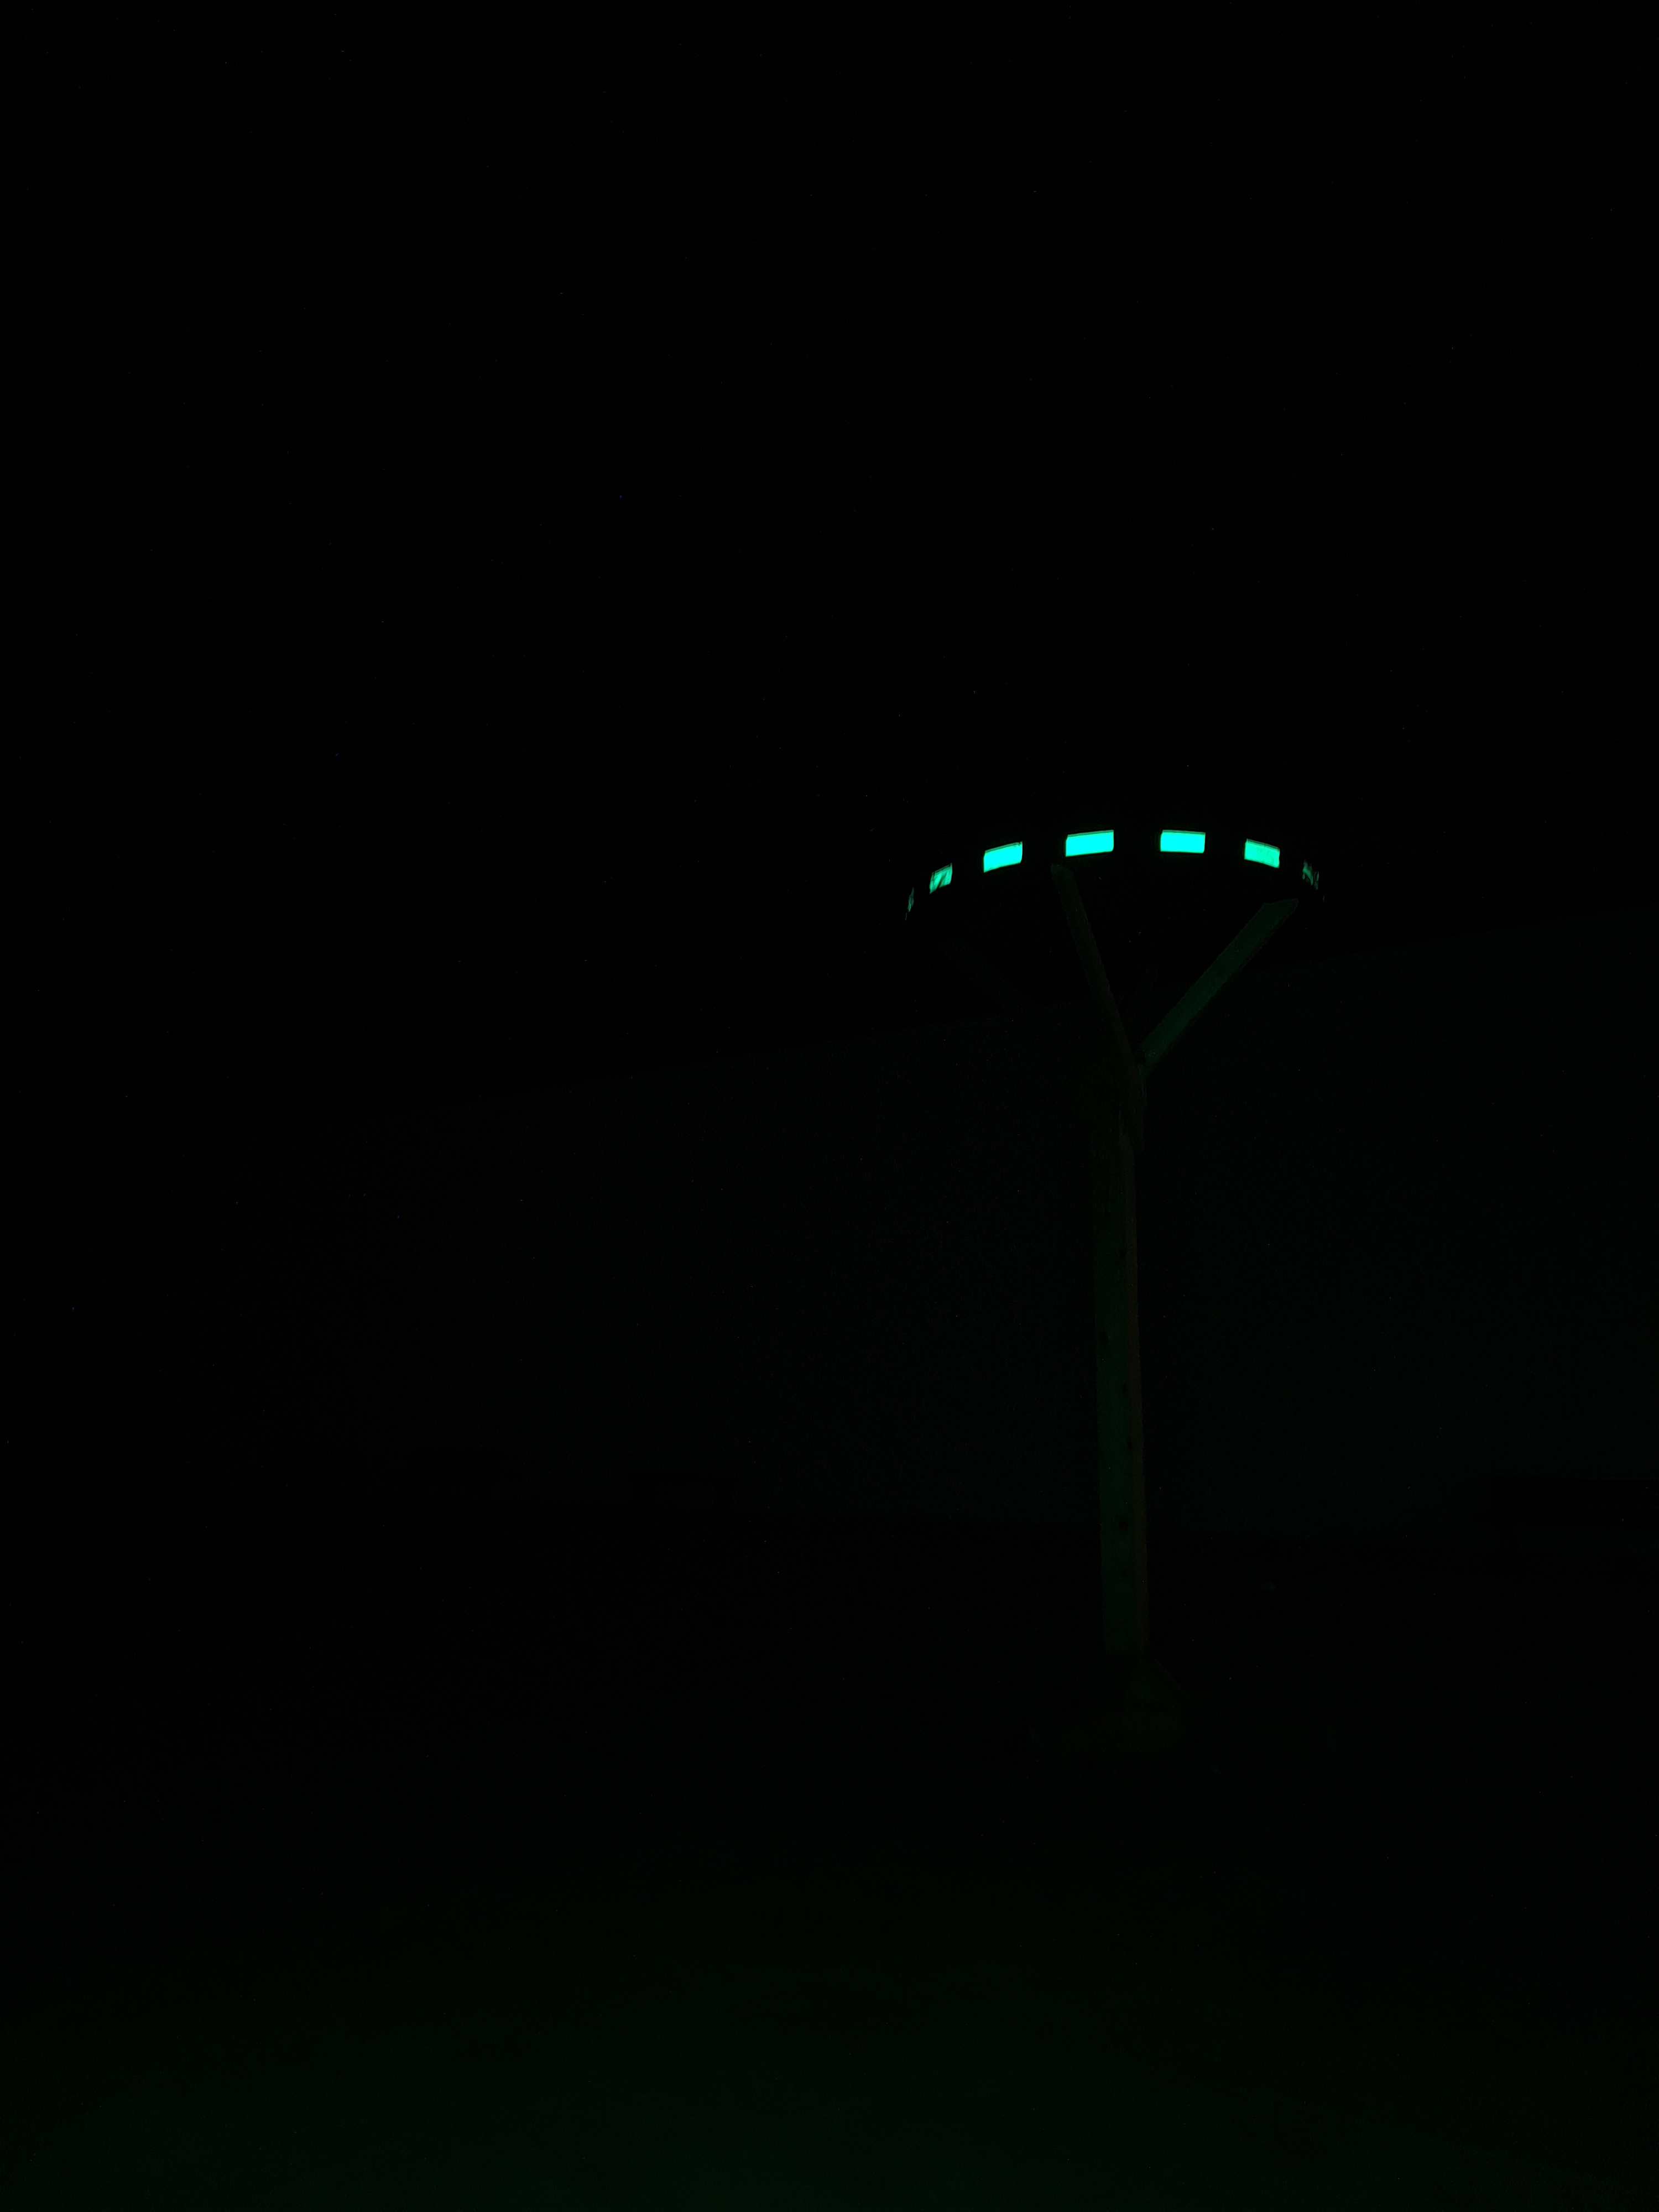hoop: (901, 826, 1321, 925)
